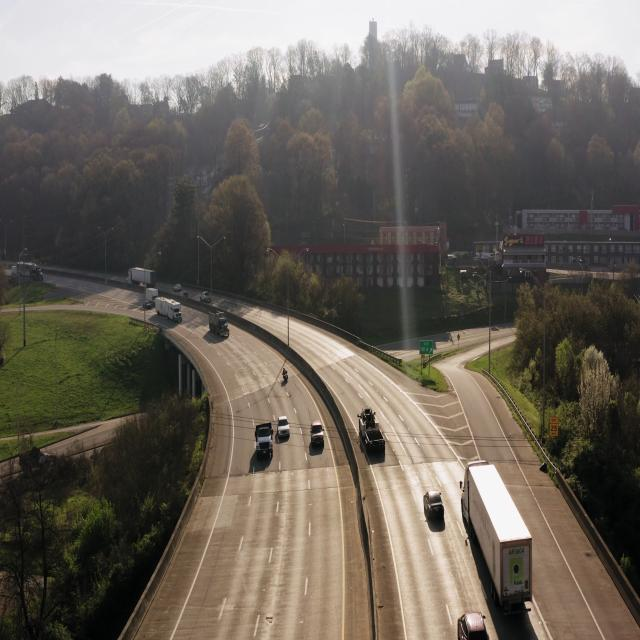Car: (457, 460, 535, 610), (356, 405, 388, 463), (455, 602, 492, 640), (422, 488, 448, 529), (253, 422, 276, 462), (310, 418, 326, 450), (278, 413, 291, 443)
